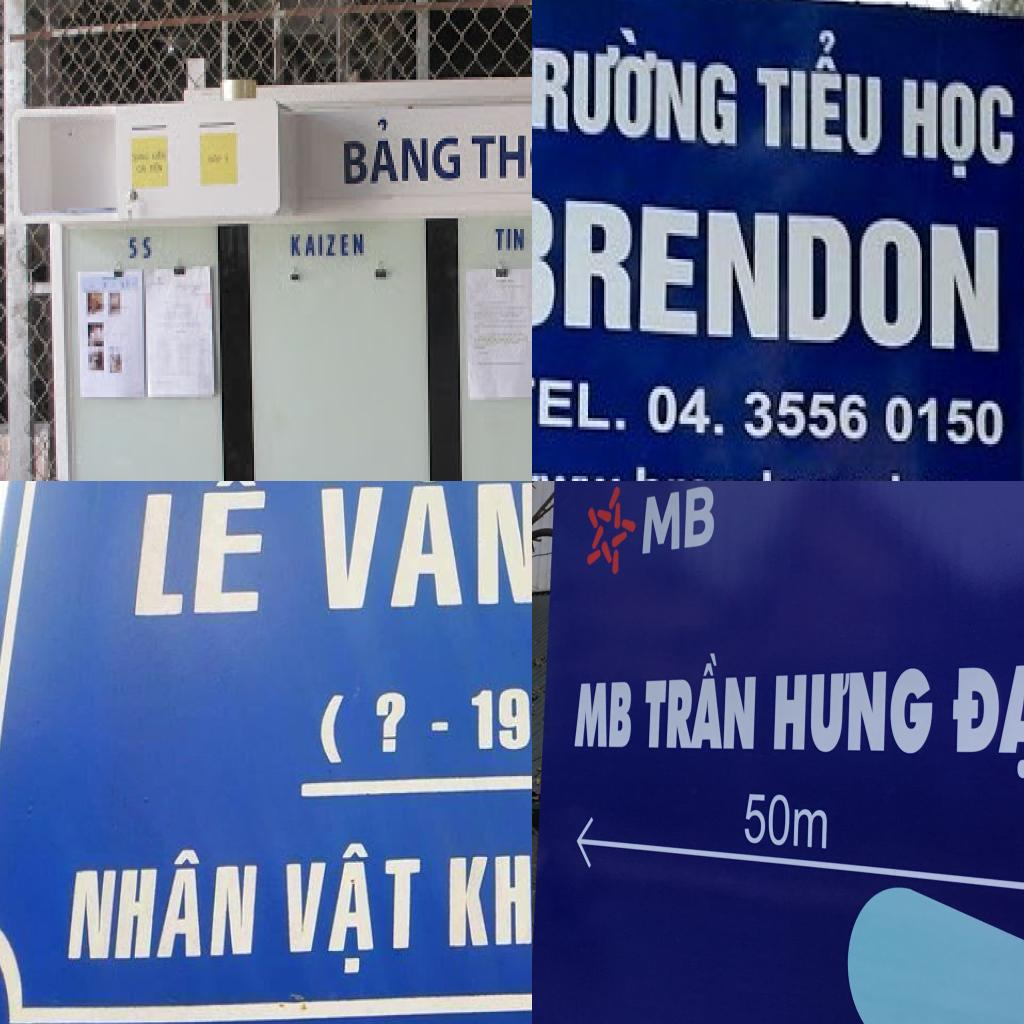text: (532, 186, 1002, 360), (318, 481, 532, 615), (532, 19, 742, 152), (642, 378, 1008, 452), (66, 844, 260, 962), (282, 838, 425, 980), (131, 481, 271, 621), (751, 22, 890, 163), (772, 666, 934, 756), (900, 74, 1016, 189), (643, 652, 760, 755), (532, 456, 1002, 481), (447, 831, 532, 952), (340, 112, 466, 192), (950, 657, 1024, 780), (532, 371, 634, 432), (640, 481, 717, 556), (470, 683, 532, 756), (468, 114, 532, 183), (572, 680, 634, 750), (374, 689, 409, 756), (290, 232, 368, 261), (318, 692, 348, 767), (492, 226, 526, 256), (128, 234, 156, 264)
